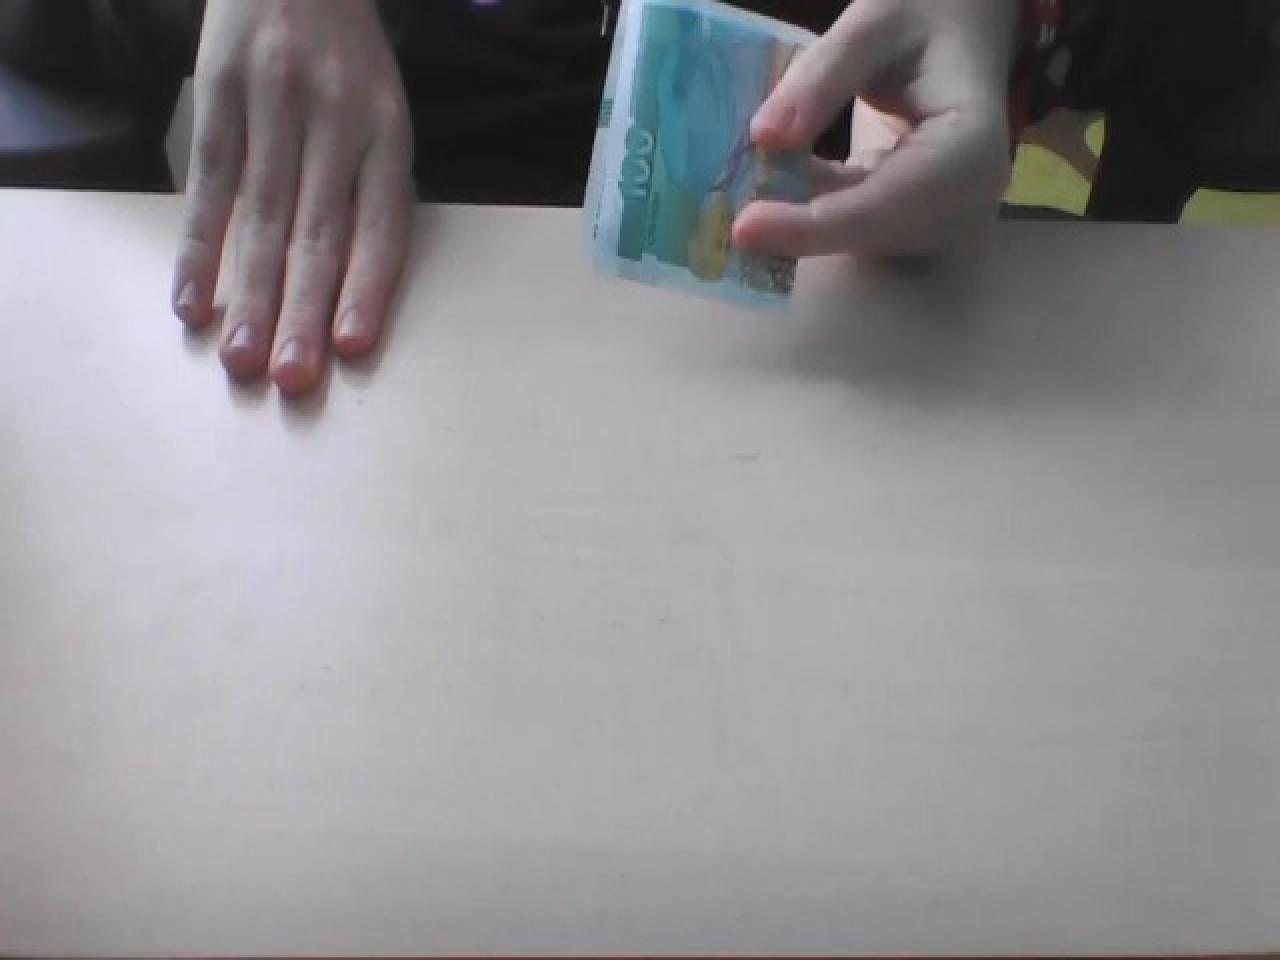100leva: (584, 0, 814, 312)
